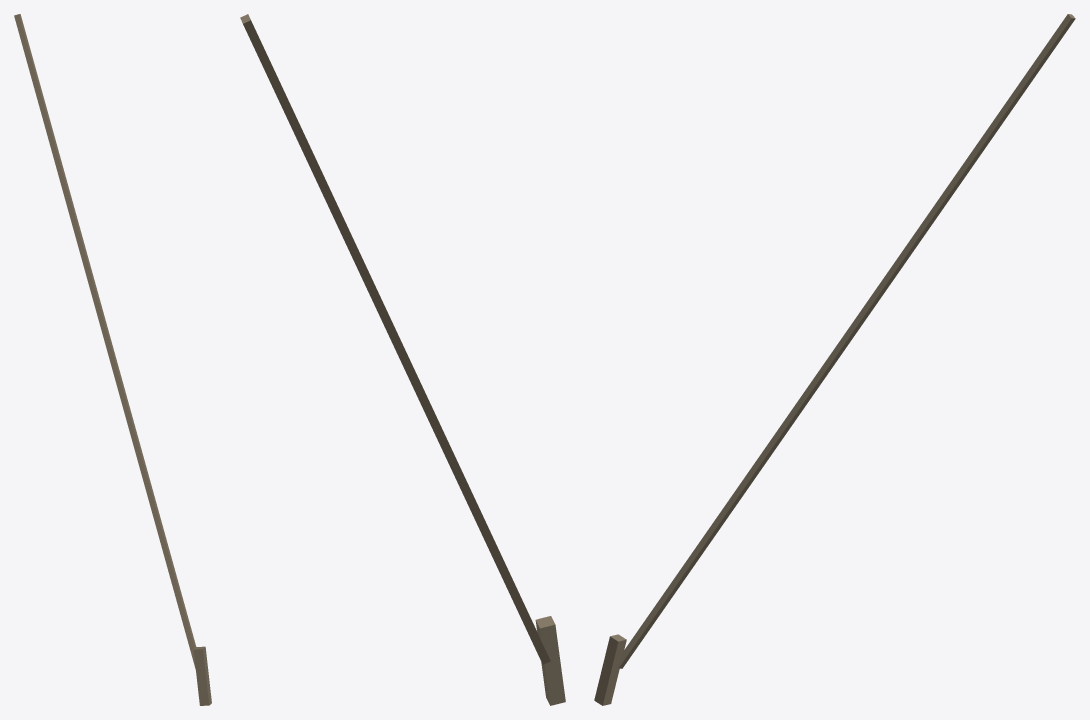
Rendered from guy_line.fbx.
3 renders of one model, left to right at view 1: azimuth 30°, elevation 25°; view 2: azimuth 150°, elevation 25°; view 3: azimuth 270°, elevation 25°, orthographic. The views are drawn at different scales.
Parts seen in each view (by area): view 1: GuyLine; view 2: GuyLine; view 3: GuyLine.
Boxes of the visible parts, x1,y1,x2,y2 form: GuyLine: (14, 14, 211, 705); GuyLine: (240, 14, 565, 705); GuyLine: (594, 14, 1075, 705).
Size of the model in its own units: 0.044 by 1.93 by 1.22.
